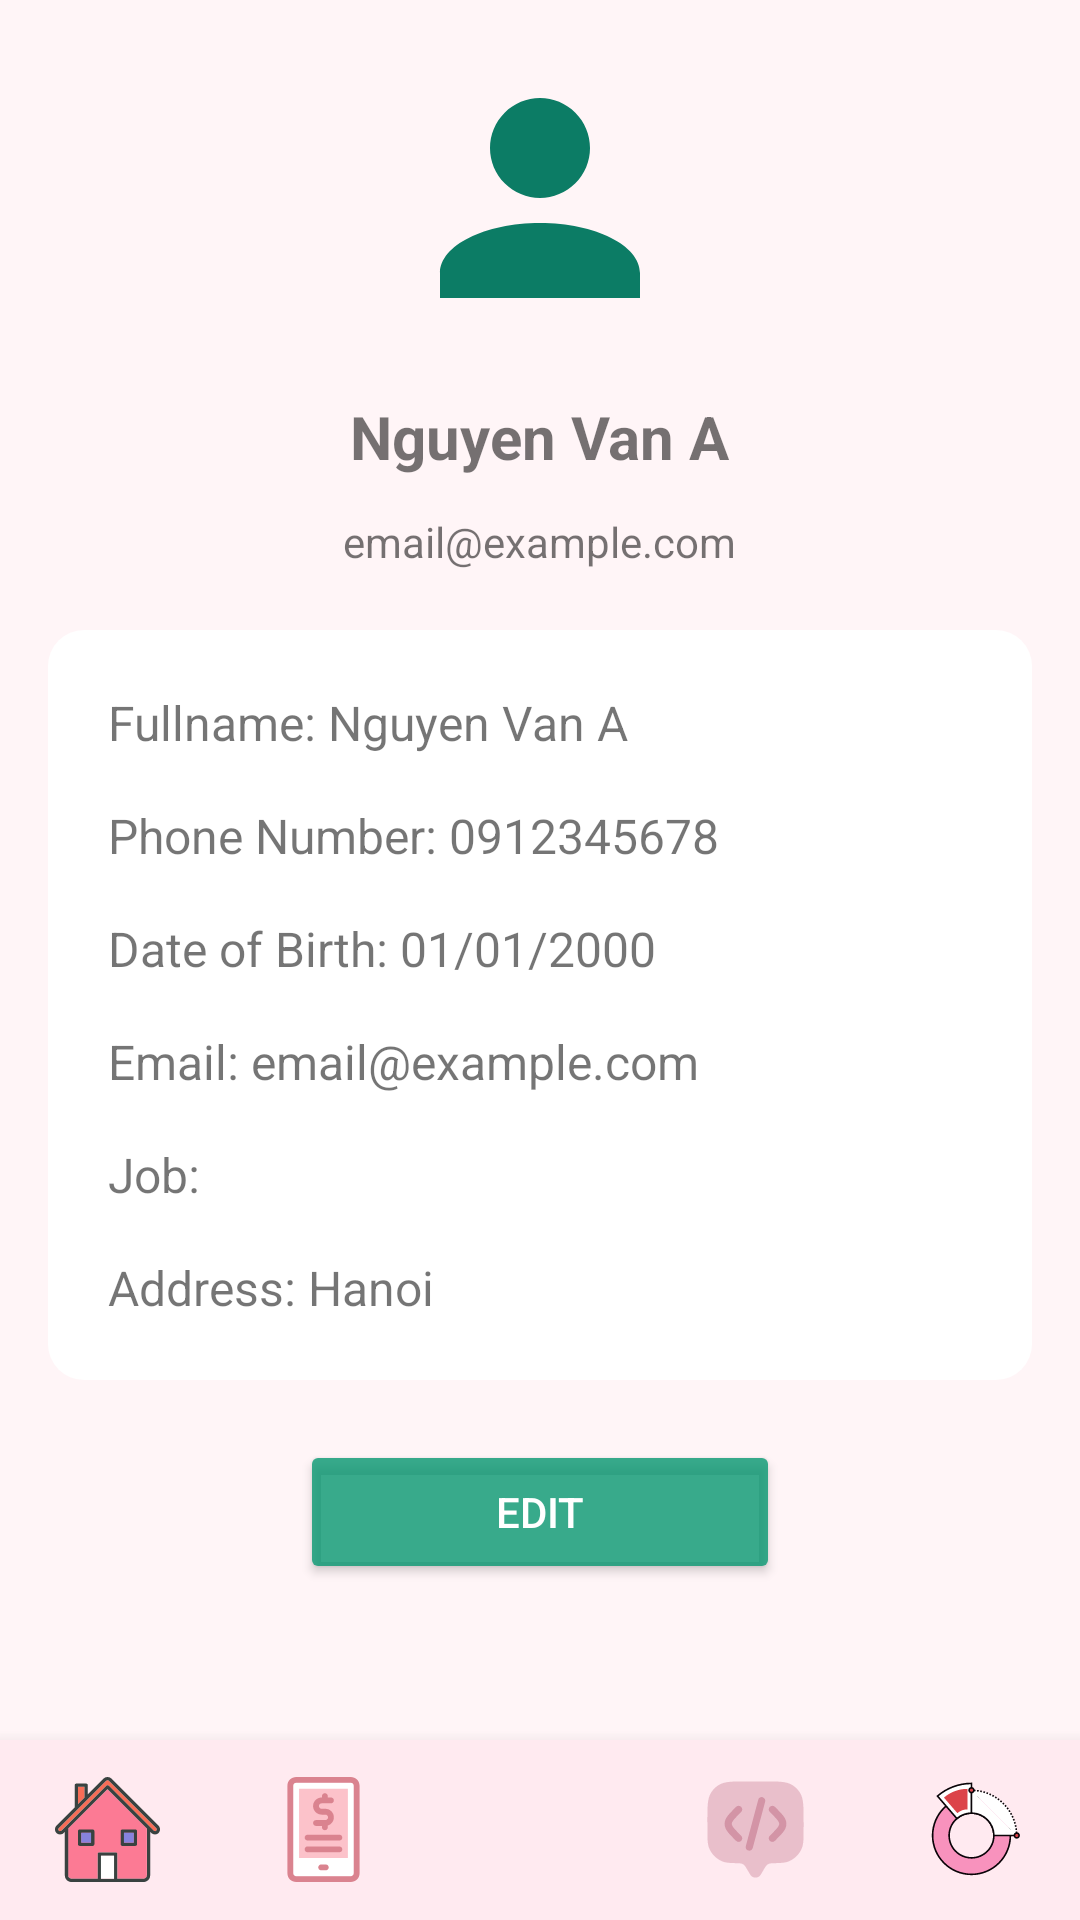

Screen size 1080 x 1920. Icon name, then its center in pixels as point (x, y):
Avatar: point (540, 198)
chart: point (975, 1829)
chat: point (755, 1829)
house: point (107, 1829)
transactions: point (323, 1829)
